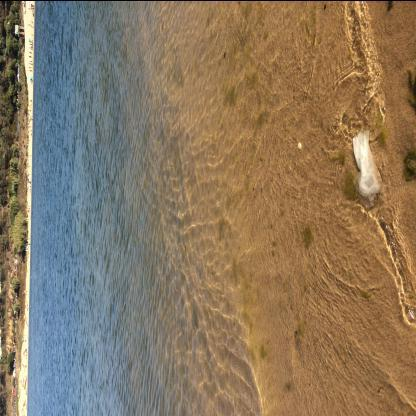plastik: (354, 130, 386, 210)
